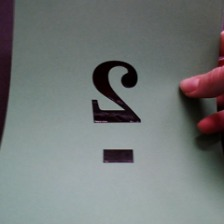green2: (83, 55, 152, 167)
